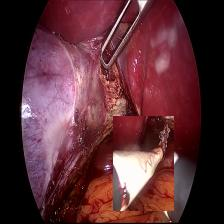Grasper: (97, 0, 152, 76)
Hook: (113, 116, 174, 211)
